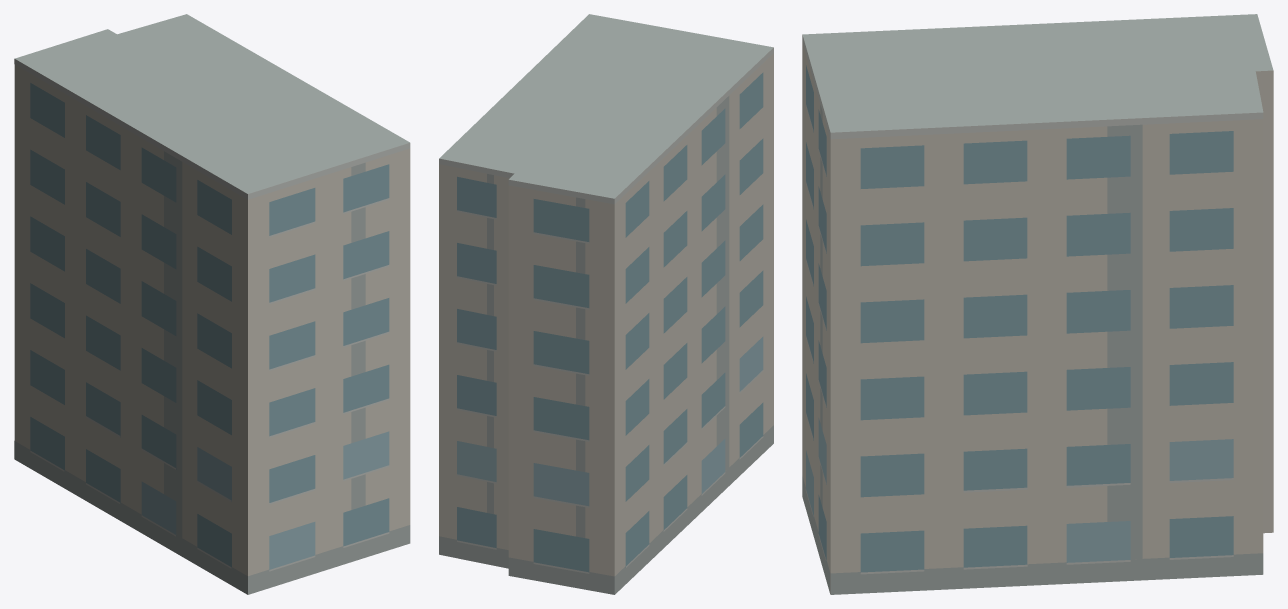
File: survey-upis-32745923.glb
The picture shows the model from 3 angles, left to right: view 1: azimuth 30°, elevation 25°; view 2: azimuth 150°, elevation 25°; view 3: azimuth 270°, elevation 25°; orthographic projection. The views are drawn at different scales.
Visible parts, largest first — view 1: survey-upis-32745923.tmp; view 2: survey-upis-32745923.tmp; view 3: survey-upis-32745923.tmp.
Boxes of the visible parts, box(x1,y1,x2,y2) form: survey-upis-32745923.tmp: box(14, 14, 410, 594); survey-upis-32745923.tmp: box(439, 14, 773, 594); survey-upis-32745923.tmp: box(802, 14, 1273, 594).
Bounding box in the file's own units: 9.42 × 17.1 × 15.81.
